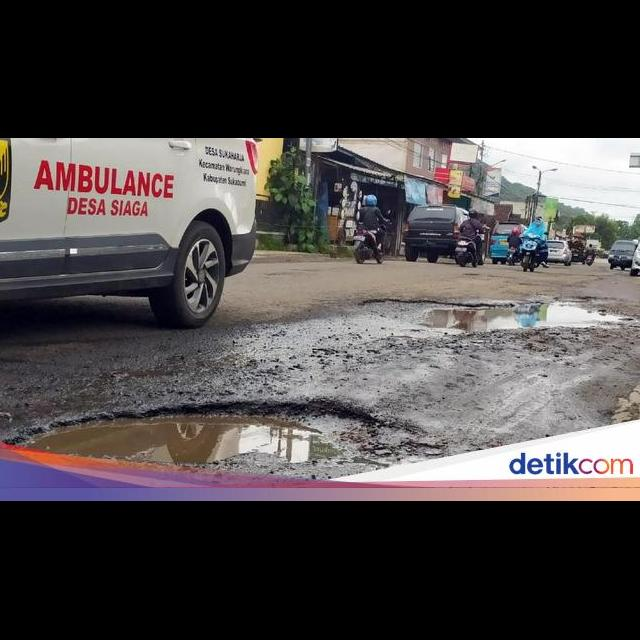lubang_kecil: (26, 393, 418, 473), (360, 279, 640, 357)
